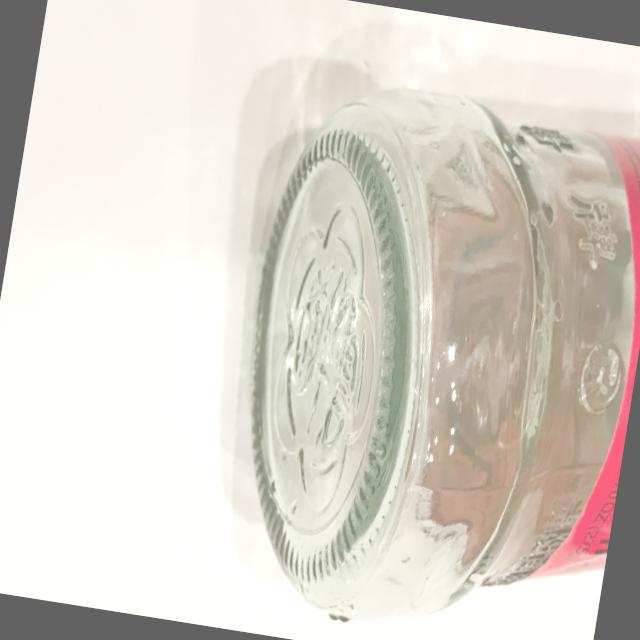Glass: (203, 62, 640, 640)
